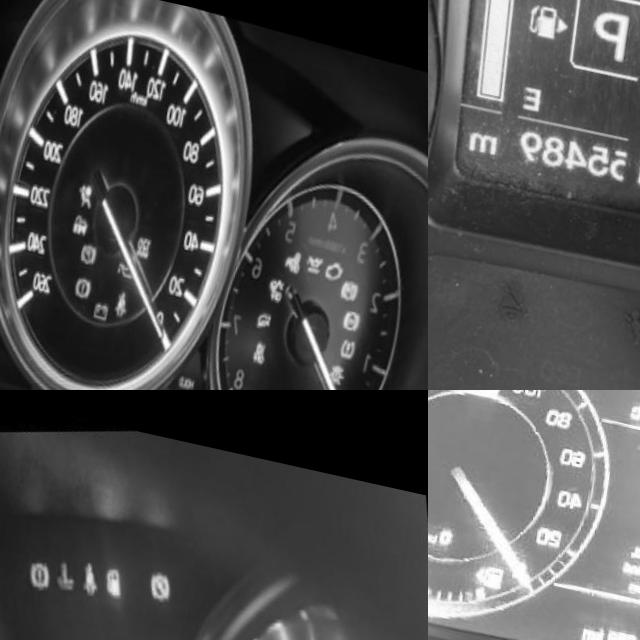Engine cooling system: (54, 542, 88, 589), (0, 303, 12, 331)
Low fuel level: (103, 546, 134, 593), (504, 550, 528, 576)
Seat Belt: (501, 264, 550, 318)
security: (77, 200, 99, 229)
